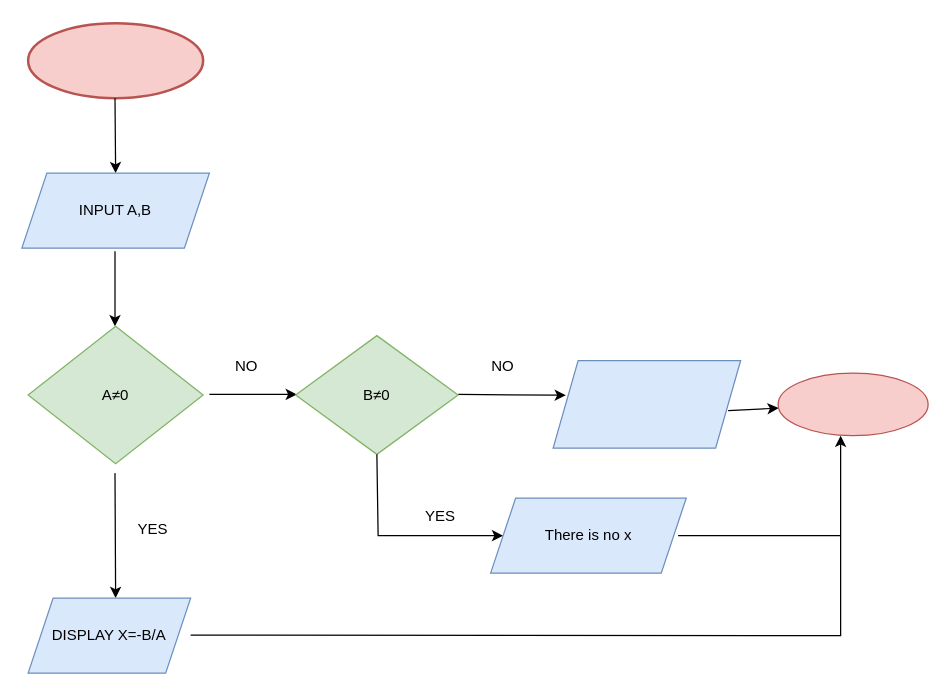
Image size: 950x695. Some labels were removed from this diagram. The box of each missing label's shape, as (x1, y1, x2, y2) in pixels:
END: (777, 372, 928, 436)
START: (26, 21, 204, 99)
X can be any number: (552, 359, 741, 448)
